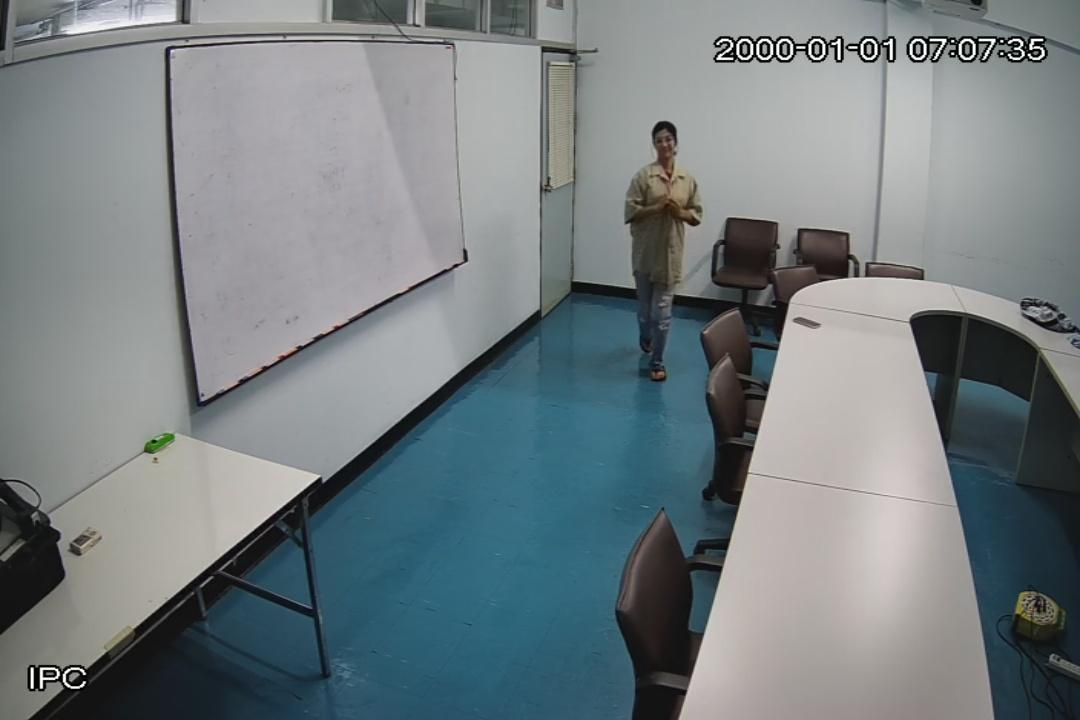normal: (619, 121, 699, 378)
